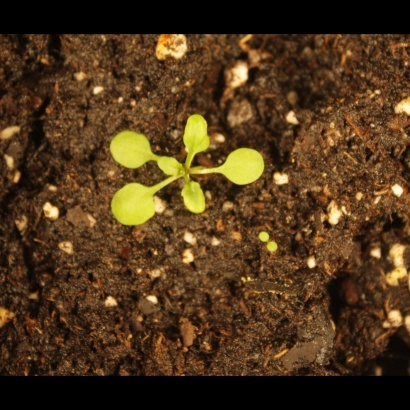leaf: (212, 143, 276, 191), (103, 180, 162, 229), (99, 124, 156, 174), (179, 107, 213, 165), (179, 179, 210, 217), (156, 153, 188, 176), (249, 220, 272, 243), (267, 241, 290, 264)
